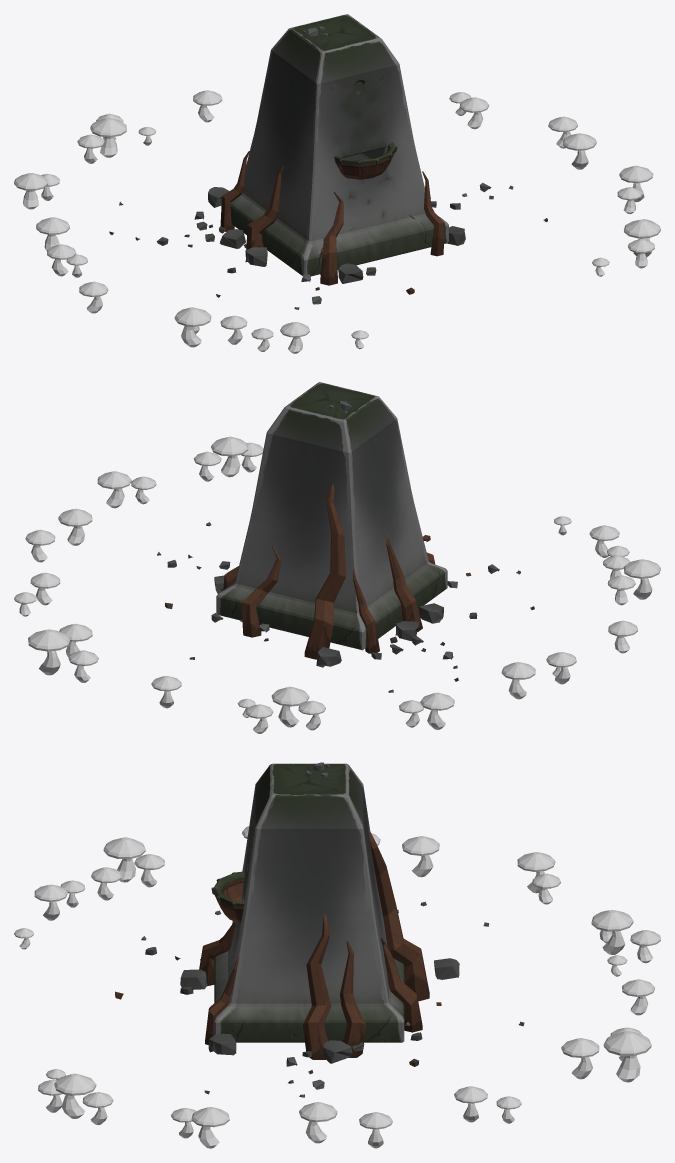
The model's file is statue_red.fbx.
3 renders of one model, top to bottom at view 1: azimuth 30°, elevation 25°; view 2: azimuth 150°, elevation 25°; view 3: azimuth 270°, elevation 25°, orthographic. The views are drawn at different scales.
Visible parts, largest first — view 1: statue red; view 2: statue red; view 3: statue red.
Boxes of the visible parts, x1,y1,x2,y2 form: statue red: (14,14,660,353); statue red: (14,382,660,733); statue red: (14,762,660,1148).
Size of the model in its own units: 349 by 387 by 143.
